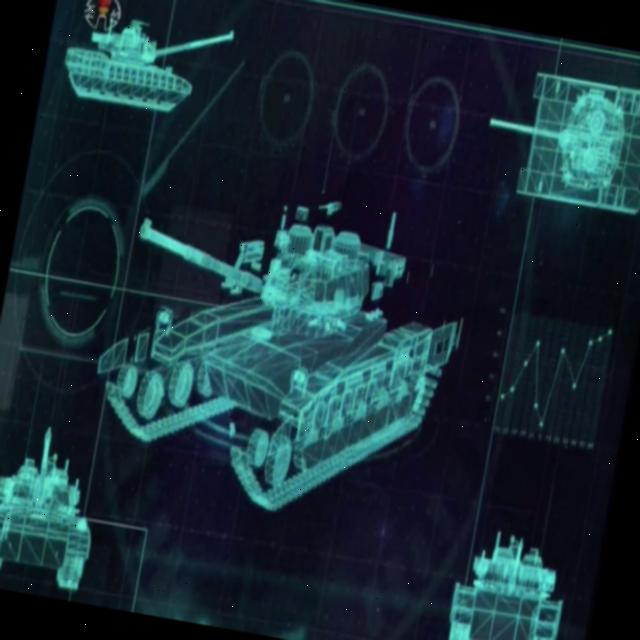north tank: (56, 181, 518, 550), (460, 27, 640, 246), (46, 0, 268, 157), (0, 411, 138, 607), (428, 513, 592, 640)
